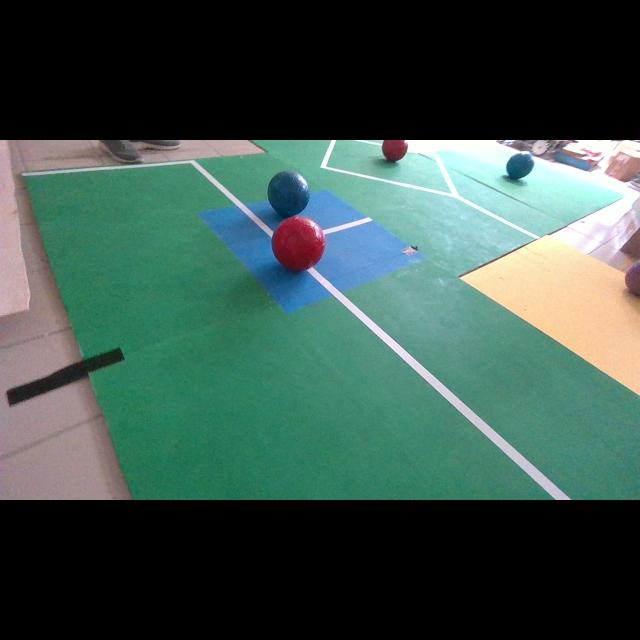B: (268, 170, 310, 218), (506, 151, 534, 179)
R: (271, 215, 326, 271), (382, 140, 408, 161)
